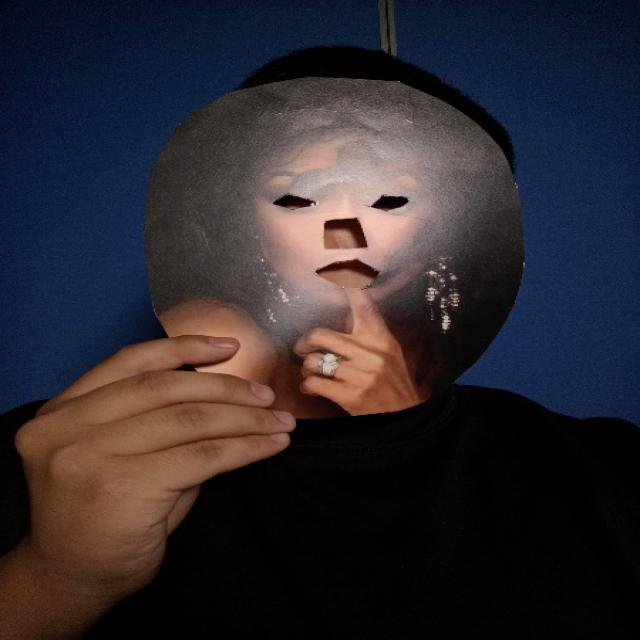mask: (140, 78, 530, 419)
